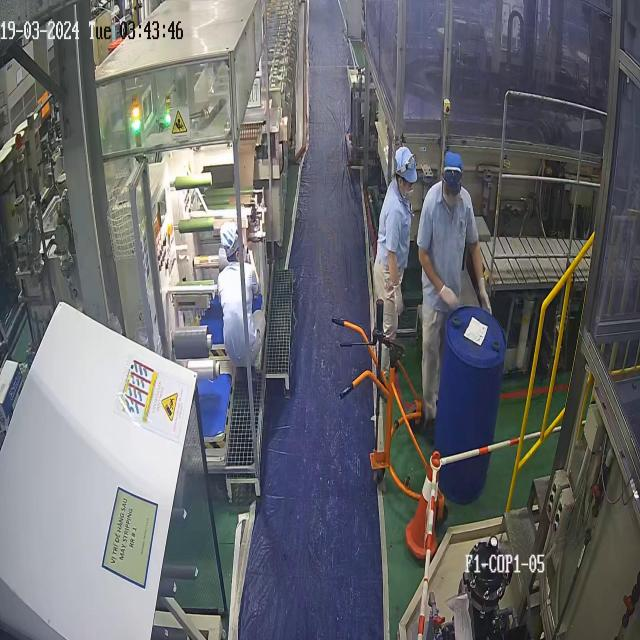Person: (415, 150, 492, 444), (372, 145, 418, 408), (217, 222, 264, 385)
